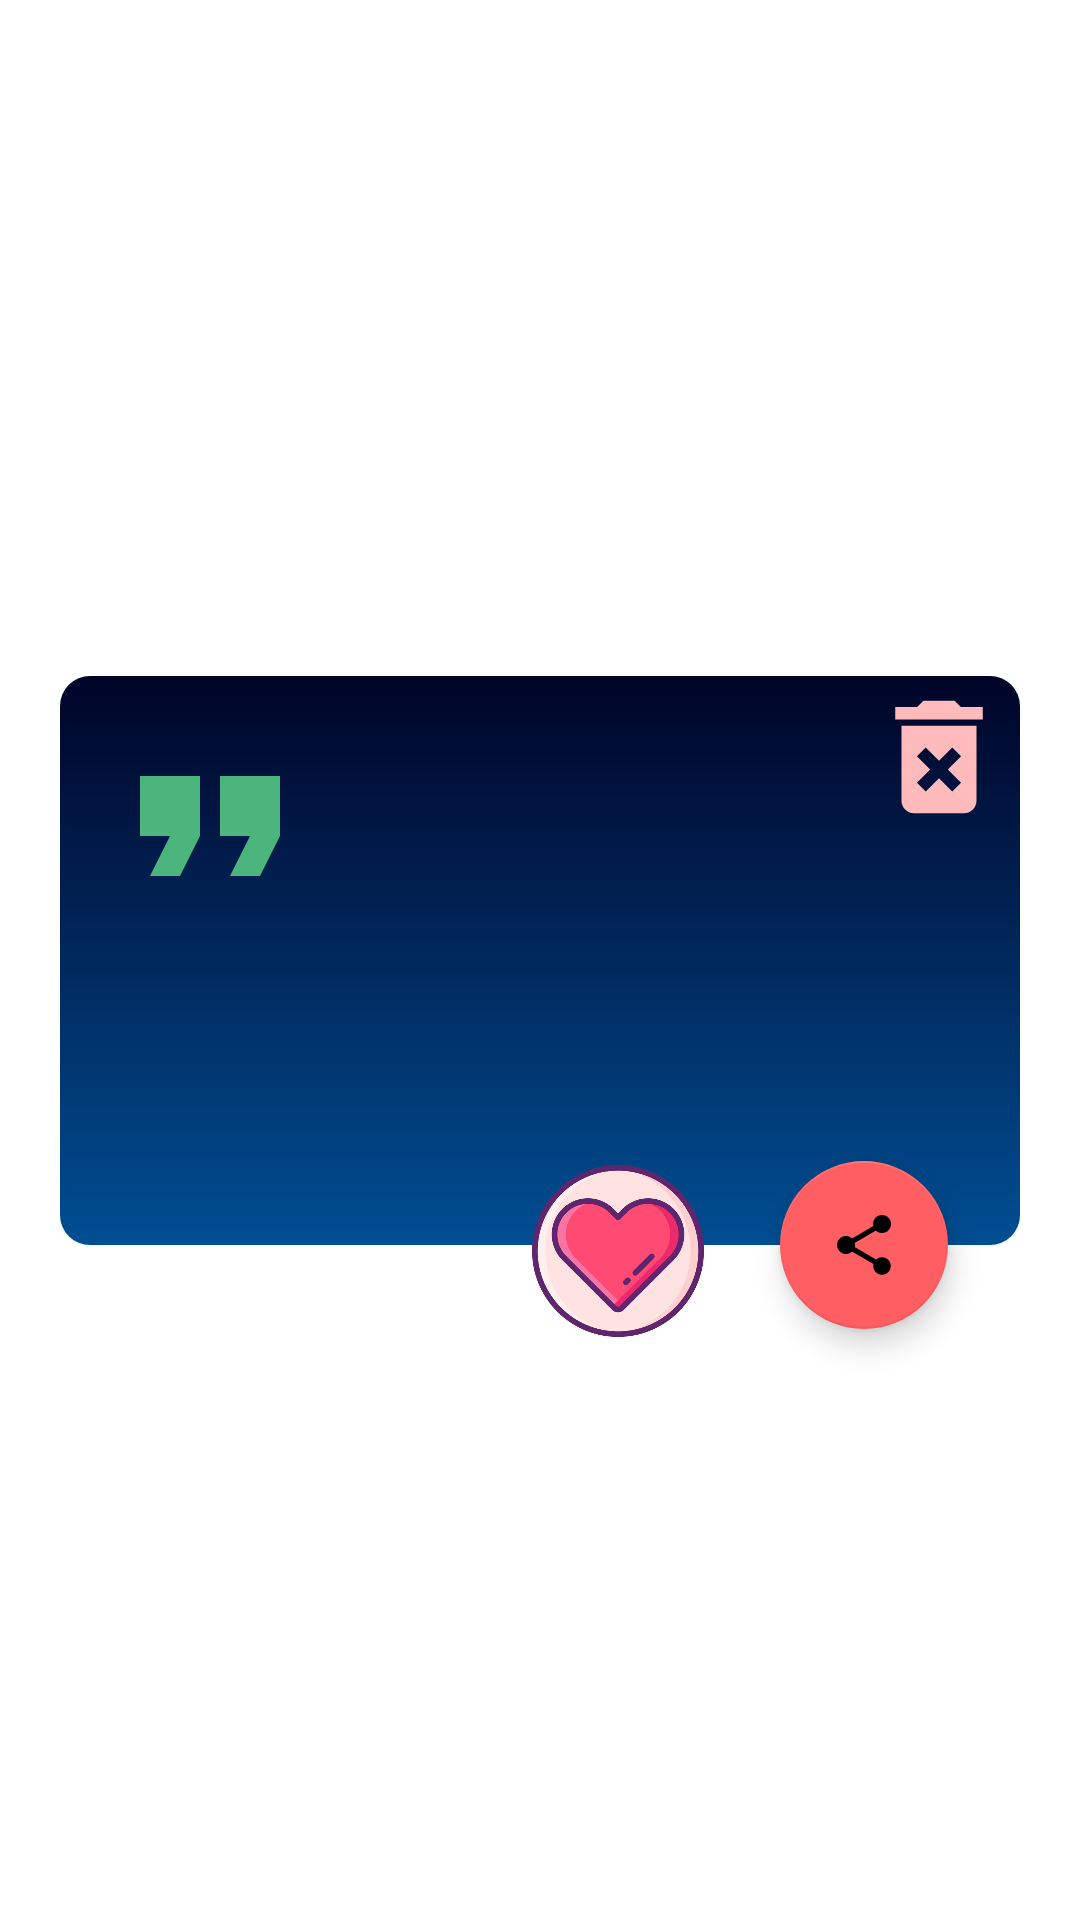

Screen size 1080 x 1920. Icon name, then its center in pixels as point (x, y):
add to fav: point (618, 1251)
delete forever: point (939, 769)
format quote: point (210, 826)
share: point (864, 1245)
